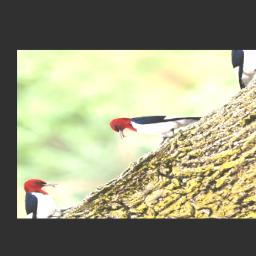Woodpecker: (100, 92, 202, 155)
